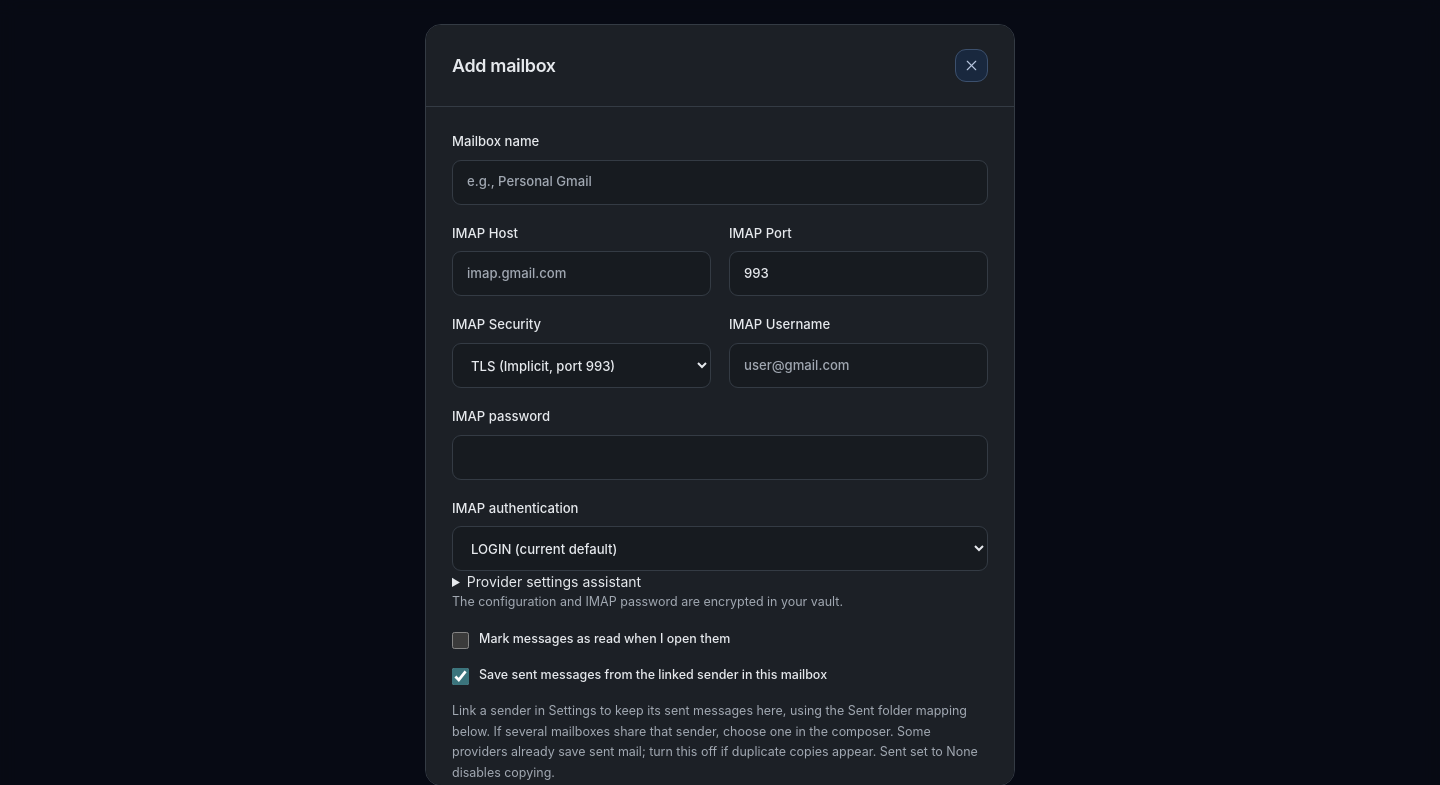
Scenario: IMAP account creation › keeps the form open and shows a failed save
Type "Personal" into the field labelled "Mailbox name" at (720, 182), box [452,160,988,205]
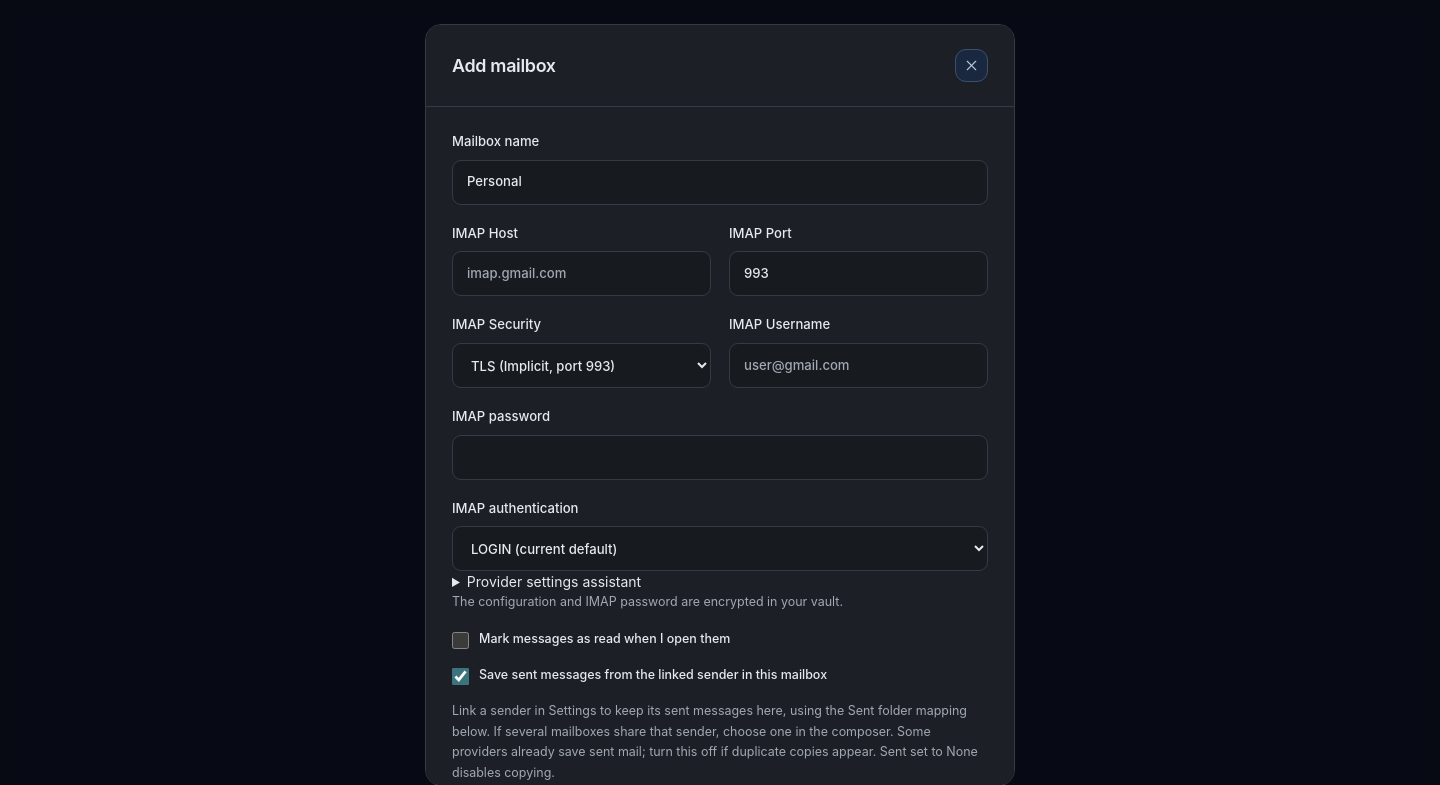
Type "imap.example.test" into the field labelled "IMAP Host" at (582, 274), box [452,251,711,296]
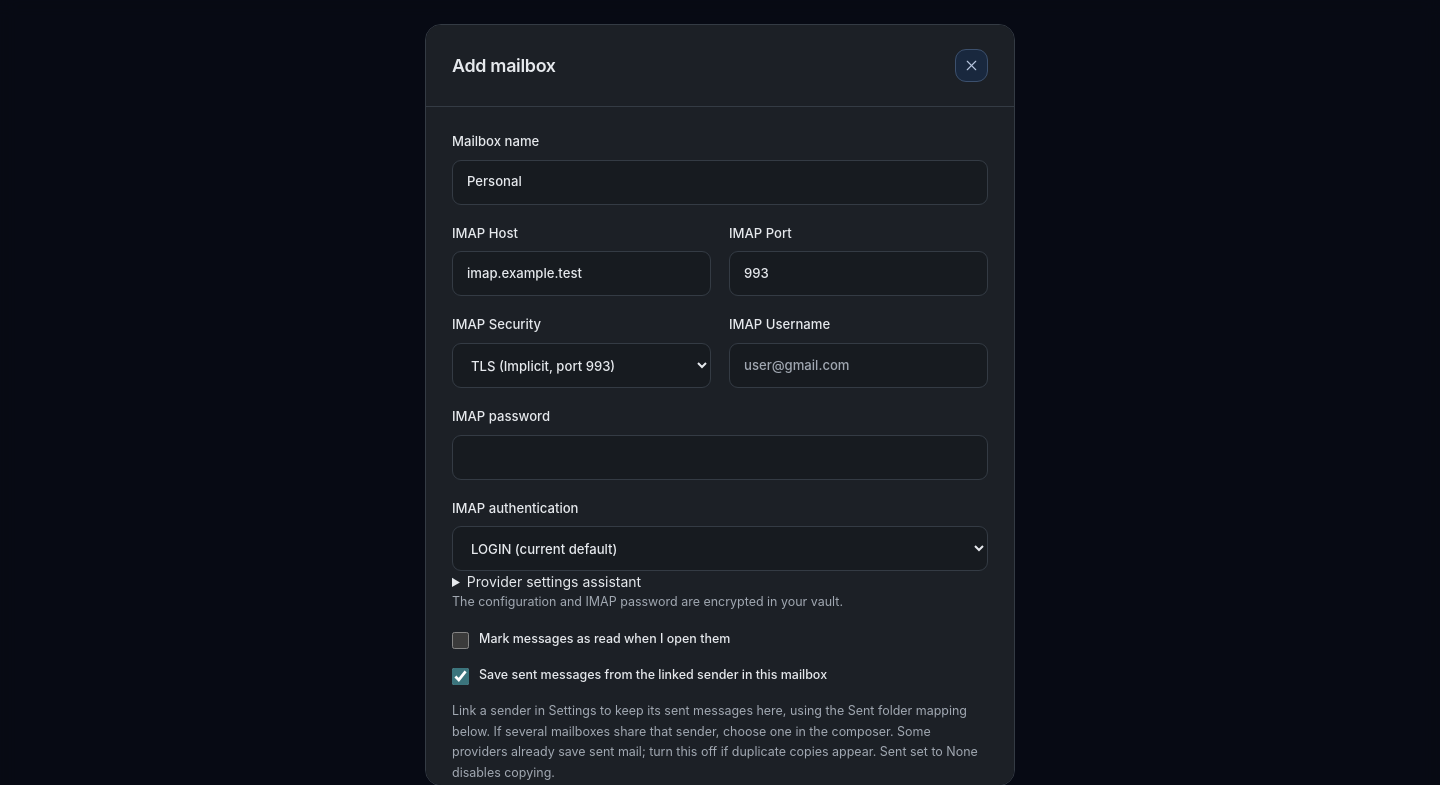
Type "me@example.test" into the field labelled "IMAP Username" at (858, 366), box [729,343,988,388]
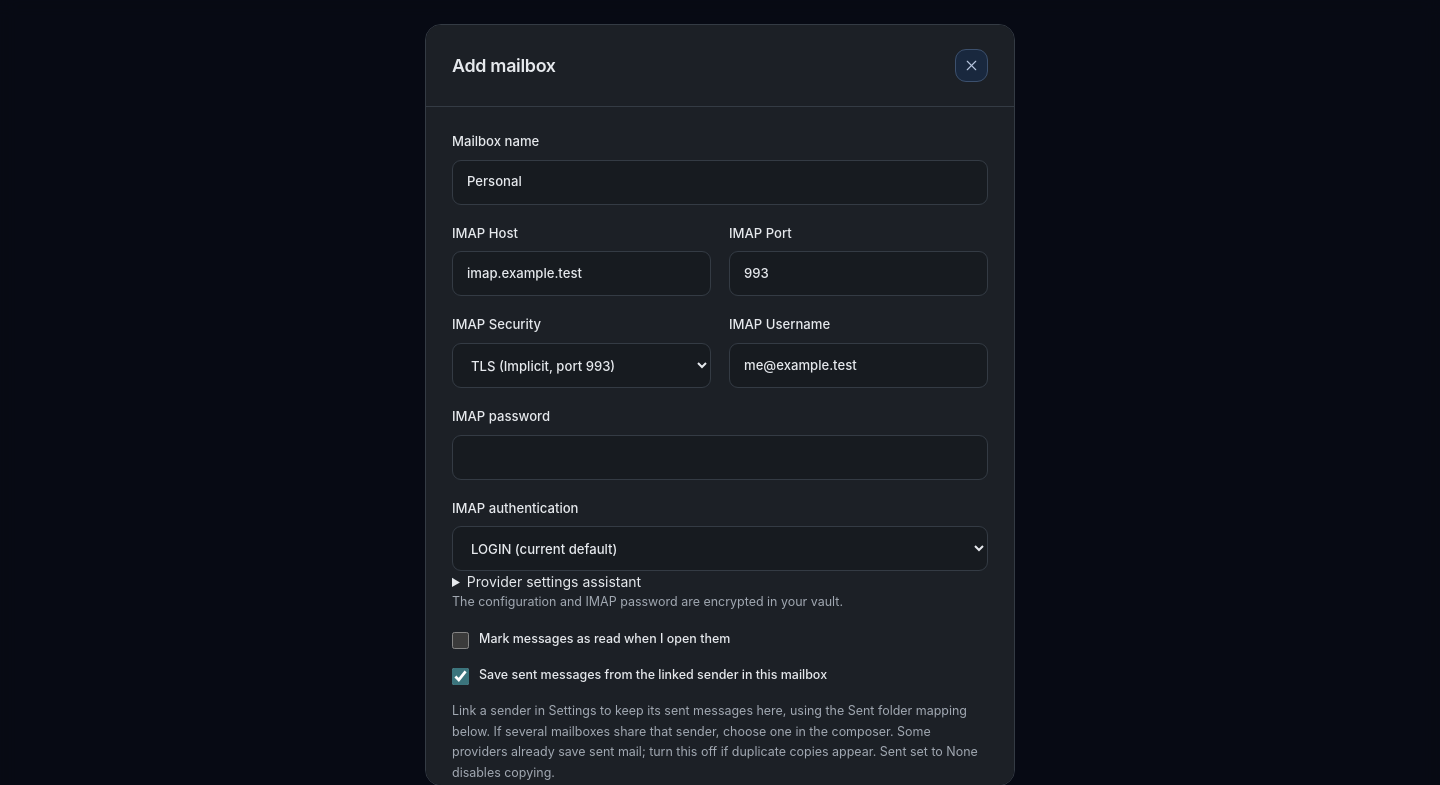
Type "imap-secret" into the password field labelled "IMAP password" at (720, 457), box [452,435,988,480]
(page scrolled)
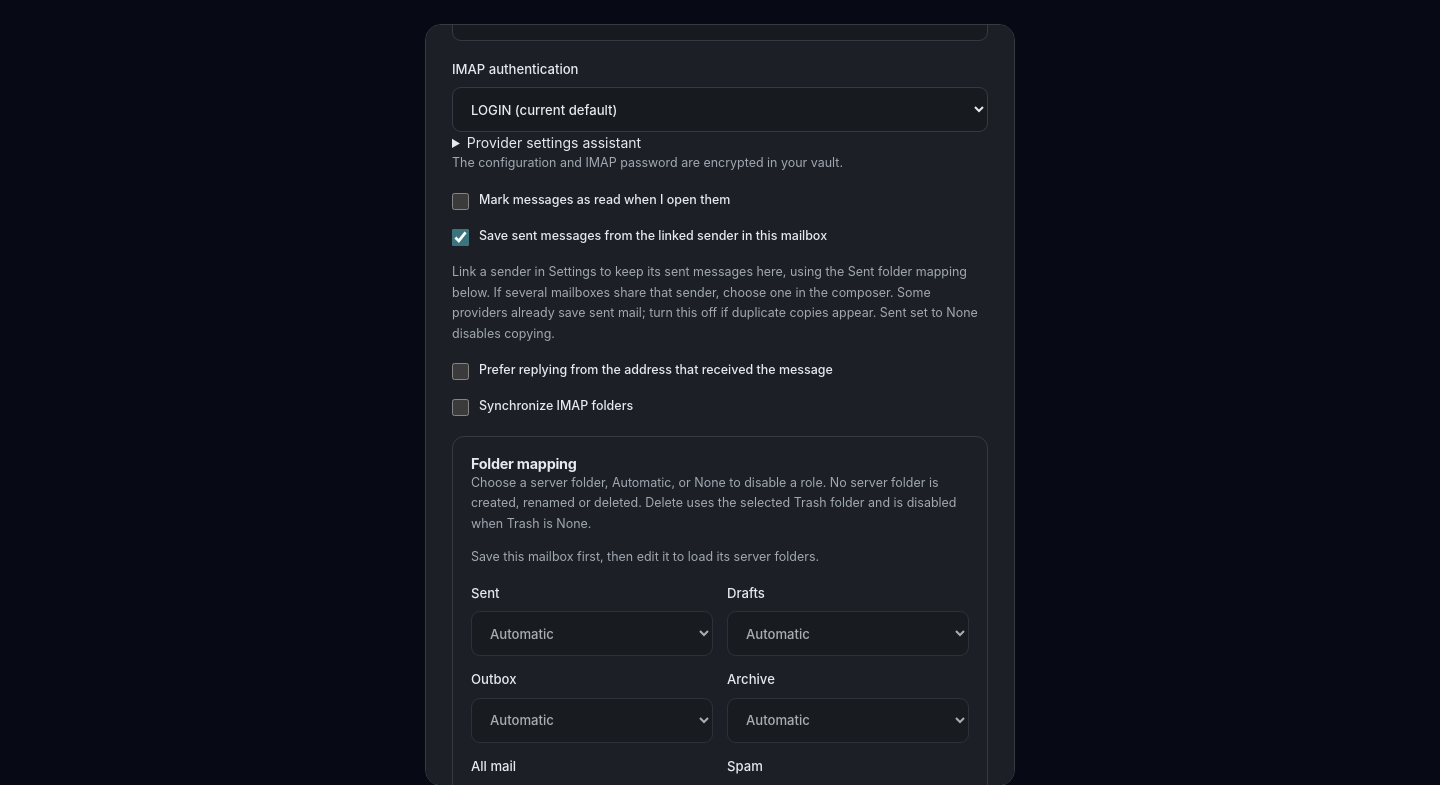
Submit the form
(page scrolled)
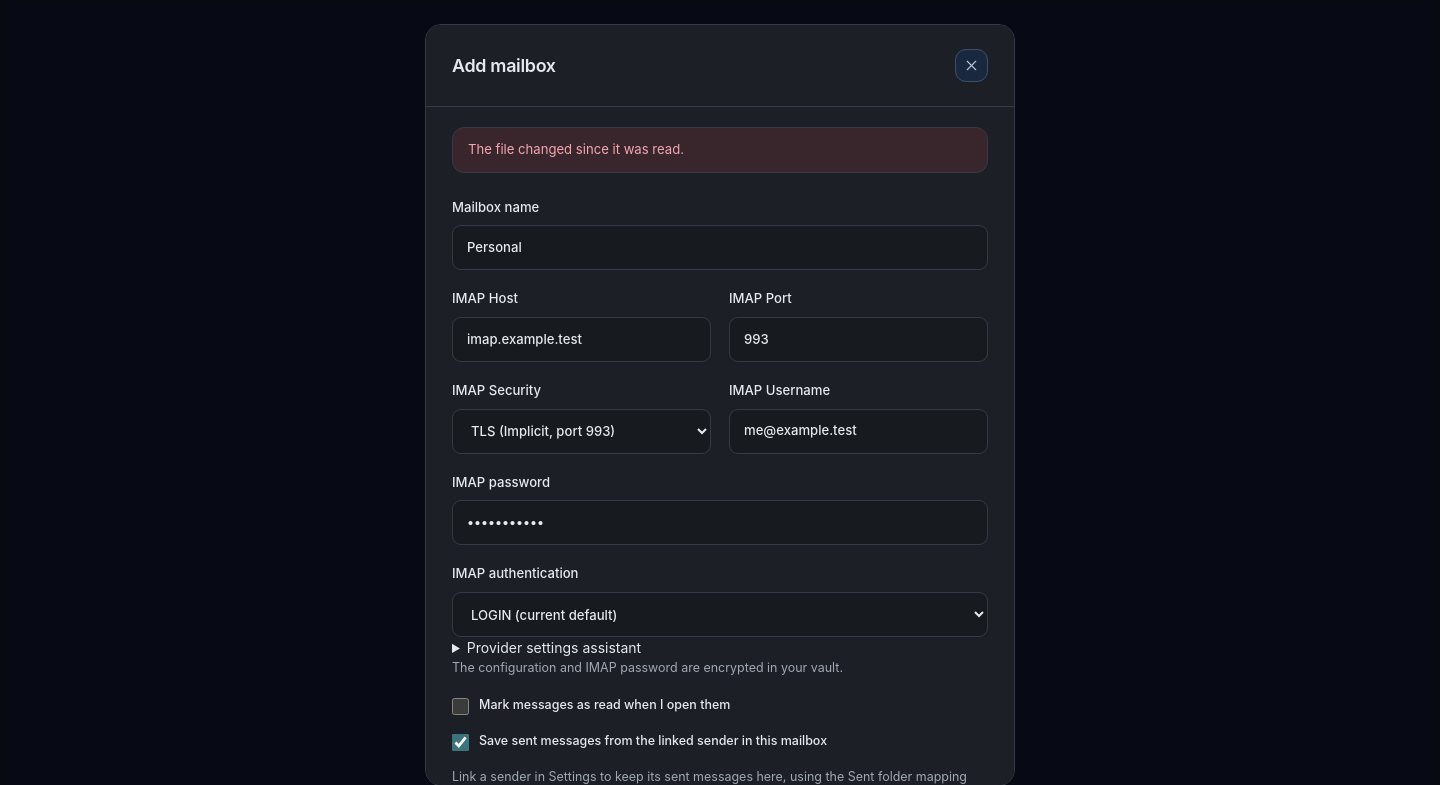
Now the message with class "error-banner" shows "The file changed", box [468,141,684,157]
